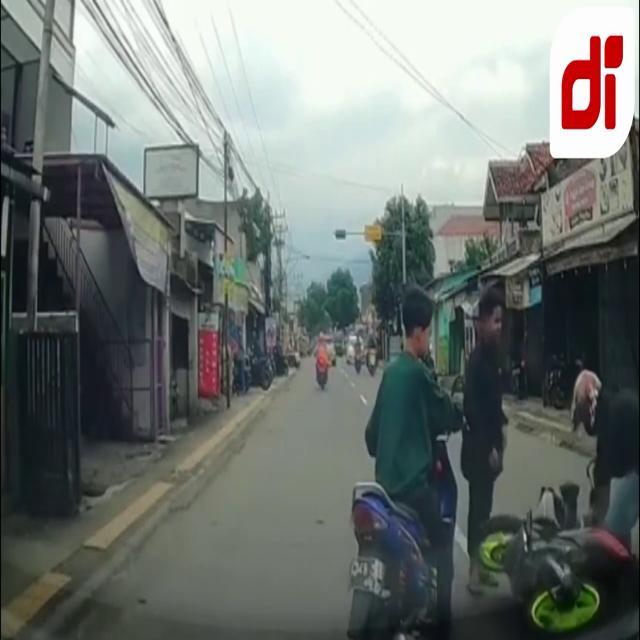single accident: (473, 462, 640, 640)
